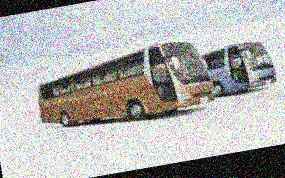bus: (30, 35, 219, 137), (199, 37, 279, 98)
